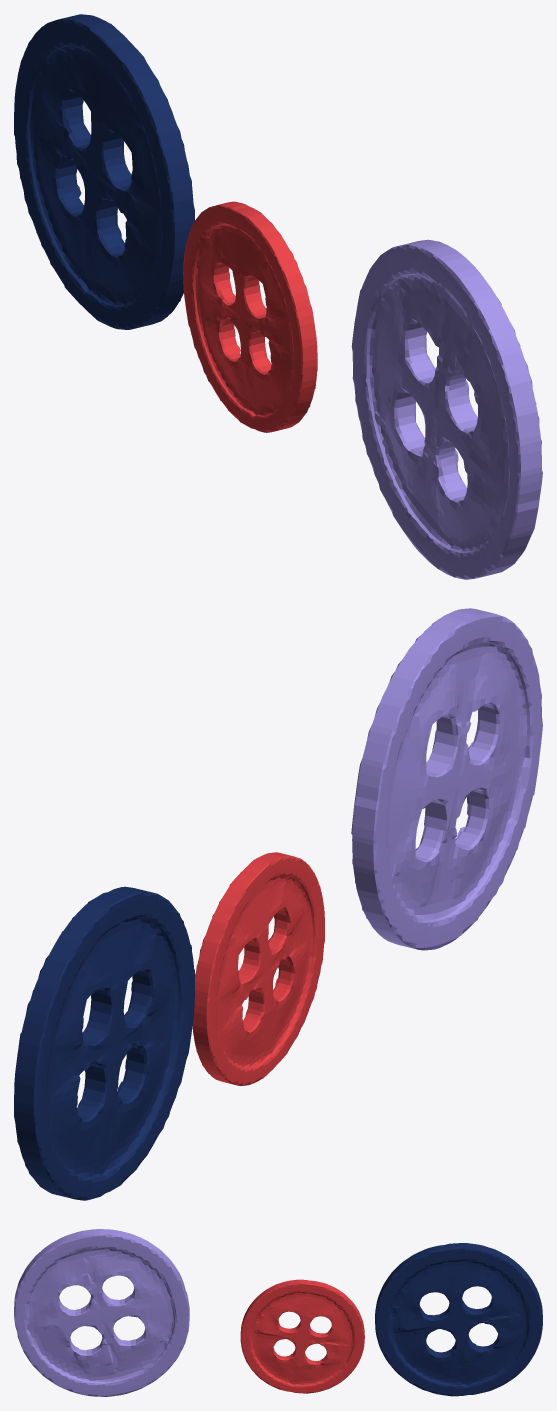
Rendered from Boutons.fbx.
3 renders of one model, top to bottom at view 1: azimuth 30°, elevation 25°; view 2: azimuth 150°, elevation 25°; view 3: azimuth 270°, elevation 25°, orthographic. The views are drawn at different scales.
Visible parts, largest first — view 1: Bouton Lapin, Bouton Ours, Bouton Frog; view 2: Bouton Lapin, Bouton Ours, Bouton Frog; view 3: Bouton Lapin, Bouton Ours, Bouton Frog.
Part boxes in pixels (x1,y1,x2,y2): Bouton Lapin: [351, 239, 542, 579]; Bouton Ours: [14, 14, 194, 329]; Bouton Frog: [183, 201, 317, 432]; Bouton Lapin: [351, 608, 542, 950]; Bouton Ours: [14, 886, 194, 1200]; Bouton Frog: [192, 852, 324, 1085]; Bouton Lapin: [14, 1229, 189, 1396]; Bouton Ours: [375, 1243, 542, 1396]; Bouton Frog: [240, 1279, 364, 1393].
Bounding box in the file's own units: 3.86 × 45.5 × 134.
